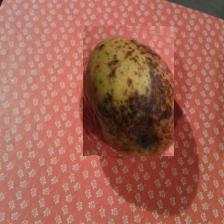Mango Semirotten: (83, 27, 174, 157)
